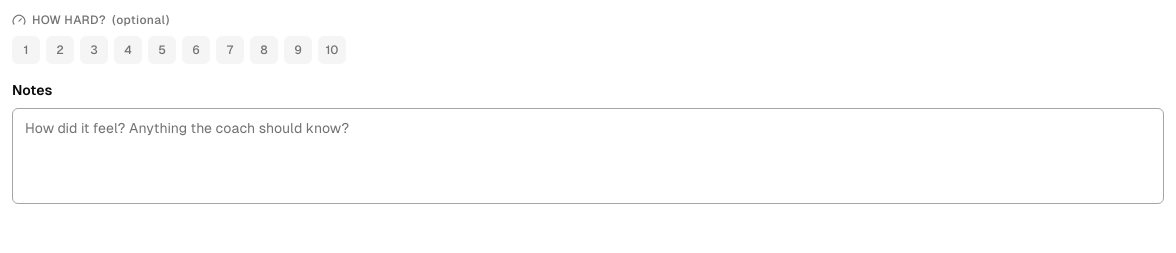
Test: WorkoutEffortNotes › shows the tapped RPE instantly even when the parent prop lags
Click the radio button with test id "button-rpe-7".
click(230, 50)  # box [216, 36, 244, 64]
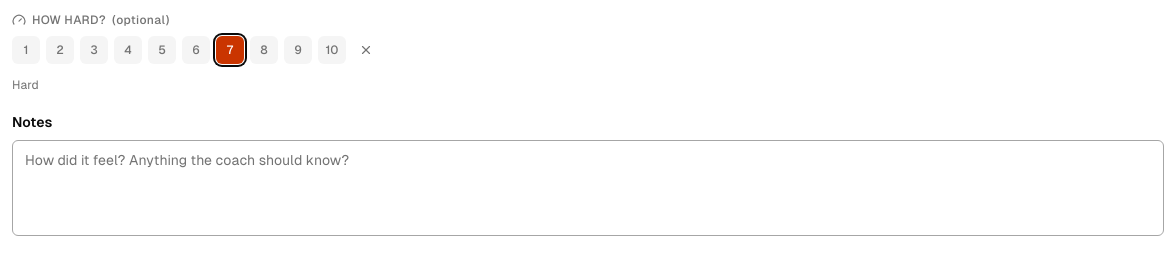
Expected: the text with test id "text-rpe-label" reads "Hard", [12, 78, 39, 92]
